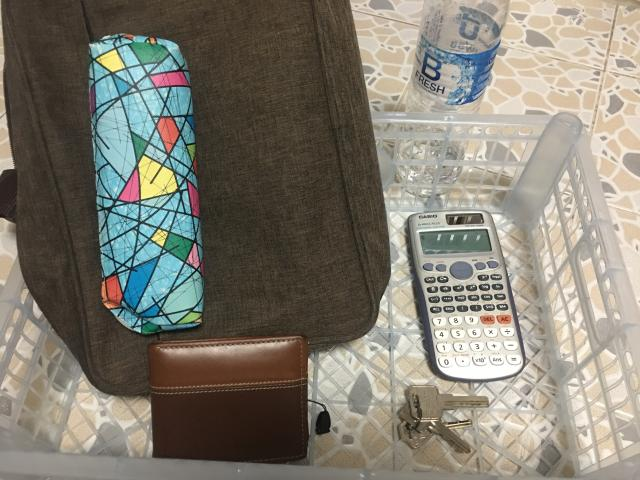Keys: (398, 385, 489, 452)
Wallet: (148, 335, 309, 462)
bottle: (406, 0, 509, 112)
